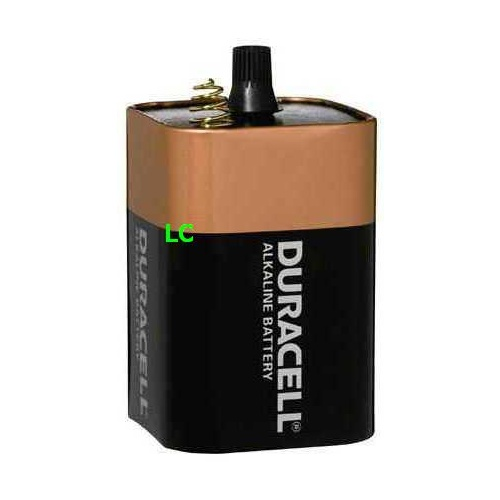6V: (116, 47, 382, 455)
